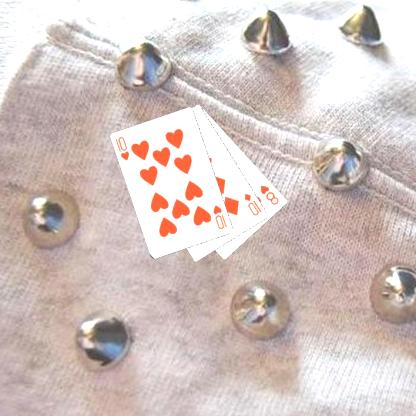10D: (242, 190, 263, 218)
10H: (210, 202, 228, 231), (113, 134, 131, 162)
8H: (258, 182, 280, 206)
